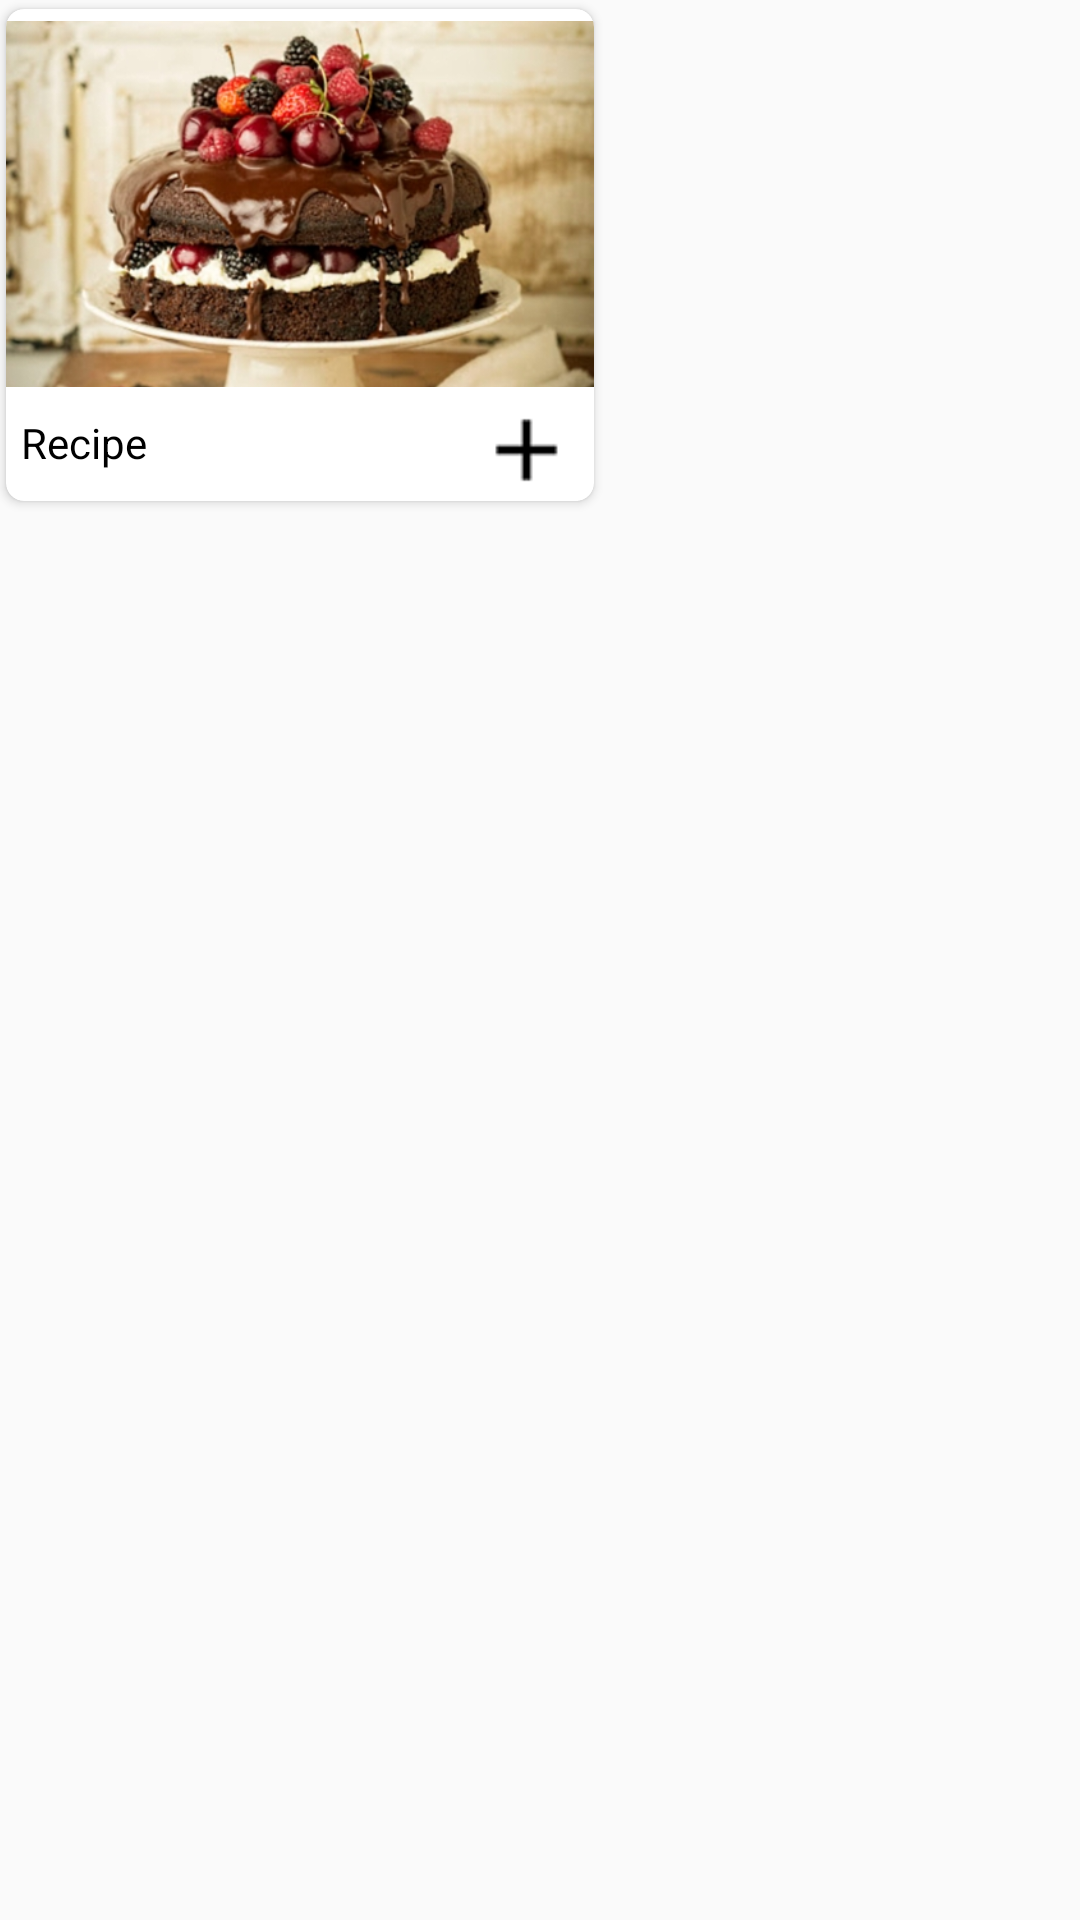

Icon bounding boxes for this 1080px x 1920px phone screenshot, format Rect(x1, y1, x2, y2):
add: Rect(495, 419, 558, 481)
